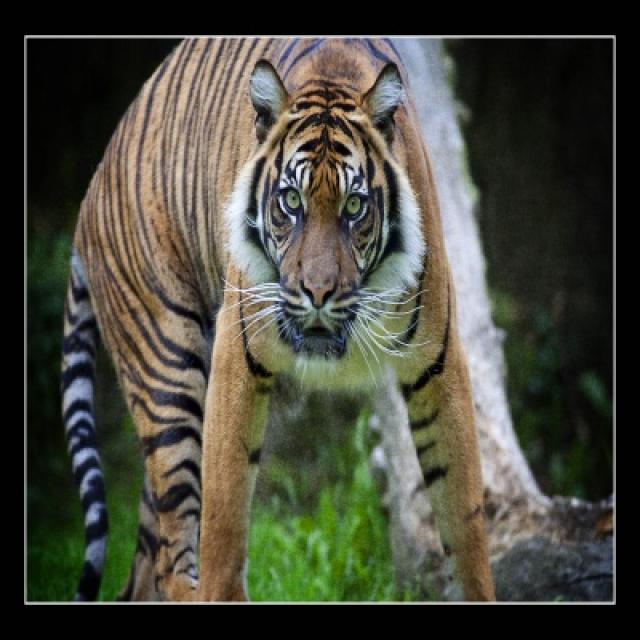Tiger: (61, 37, 493, 600)
